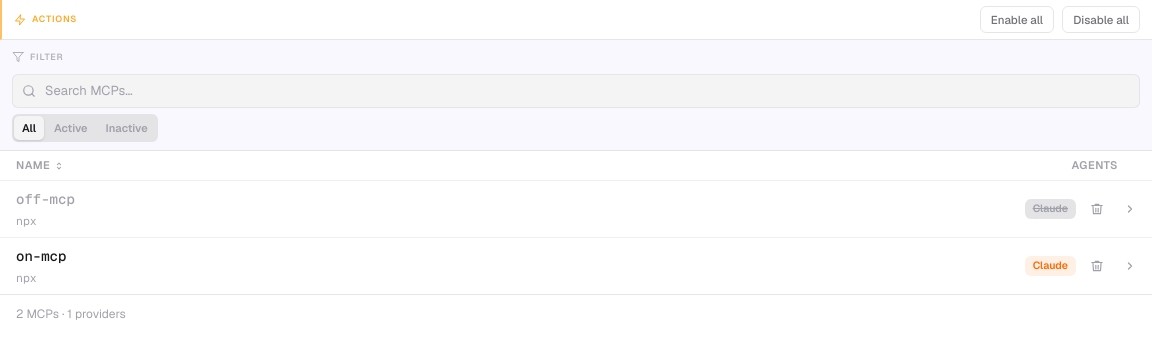
it: AllMcpsView — status filter (All / Active / Inactive) › "Inactive" narrows to MCPs with no enabled variant
This screenshot has width=1152, height=337.
Click the button "Inactive": (127, 128) [98,116,156,140]
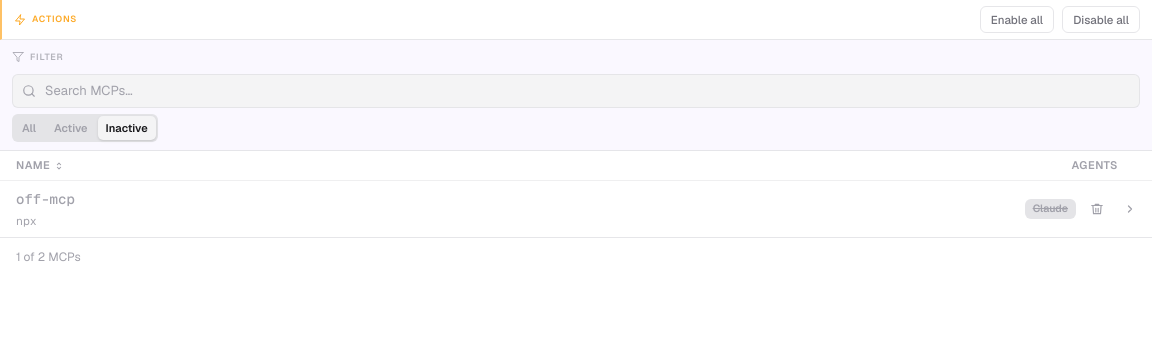
Check: the text "off-mcp" is shown, box [16,189,75,210]
Check: the button "on-mcp" is gone
